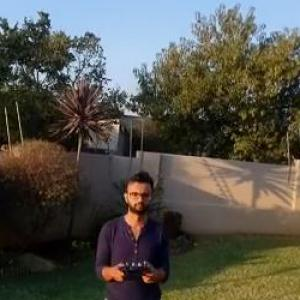follow: (89, 166, 175, 298)
